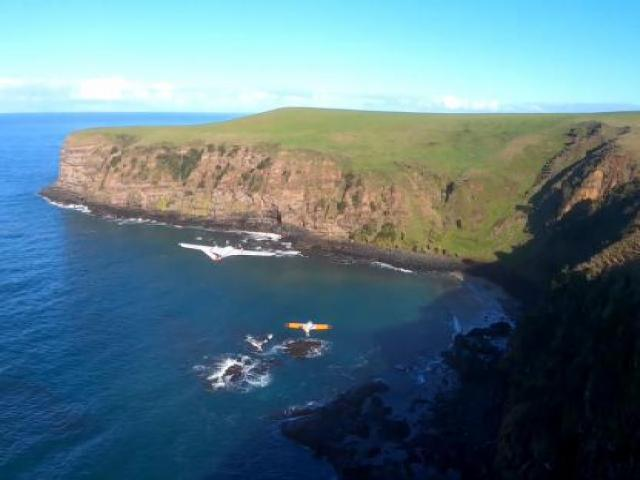uav: (282, 320, 335, 336)
